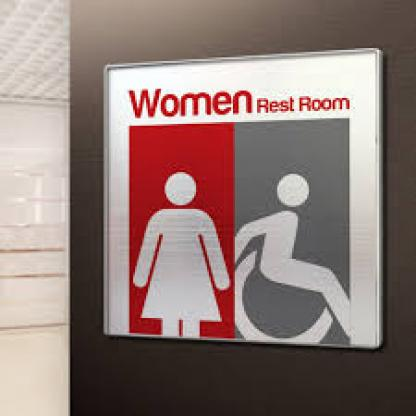toilet: (137, 170, 231, 337)
